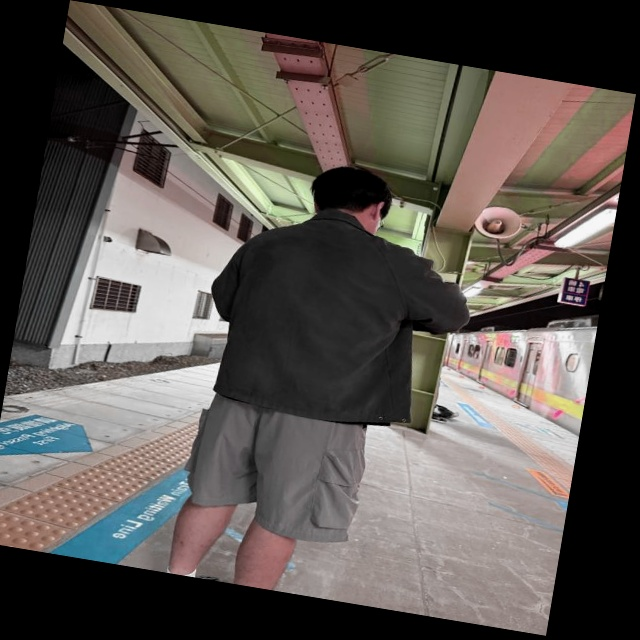Sin_Casco_Mascarrilla: (304, 159, 395, 231)
Sin_Chaleco: (215, 214, 416, 424)
